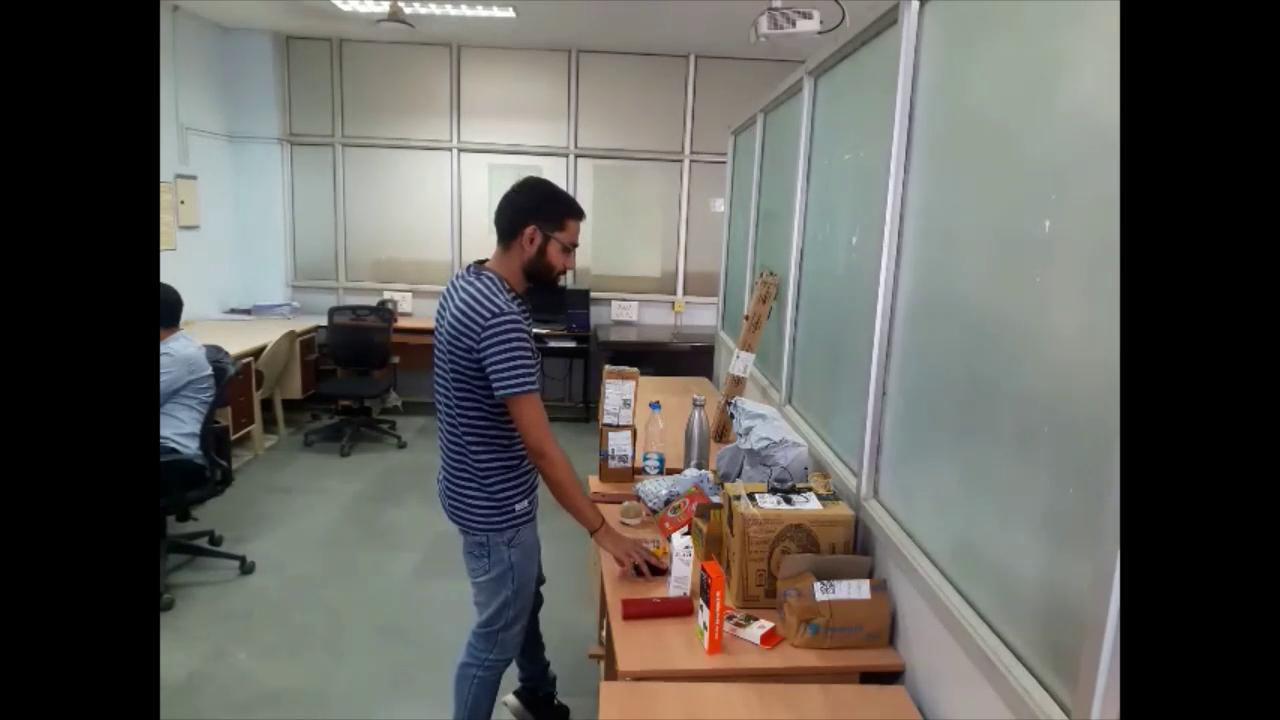Normal: (421, 175, 671, 717)
